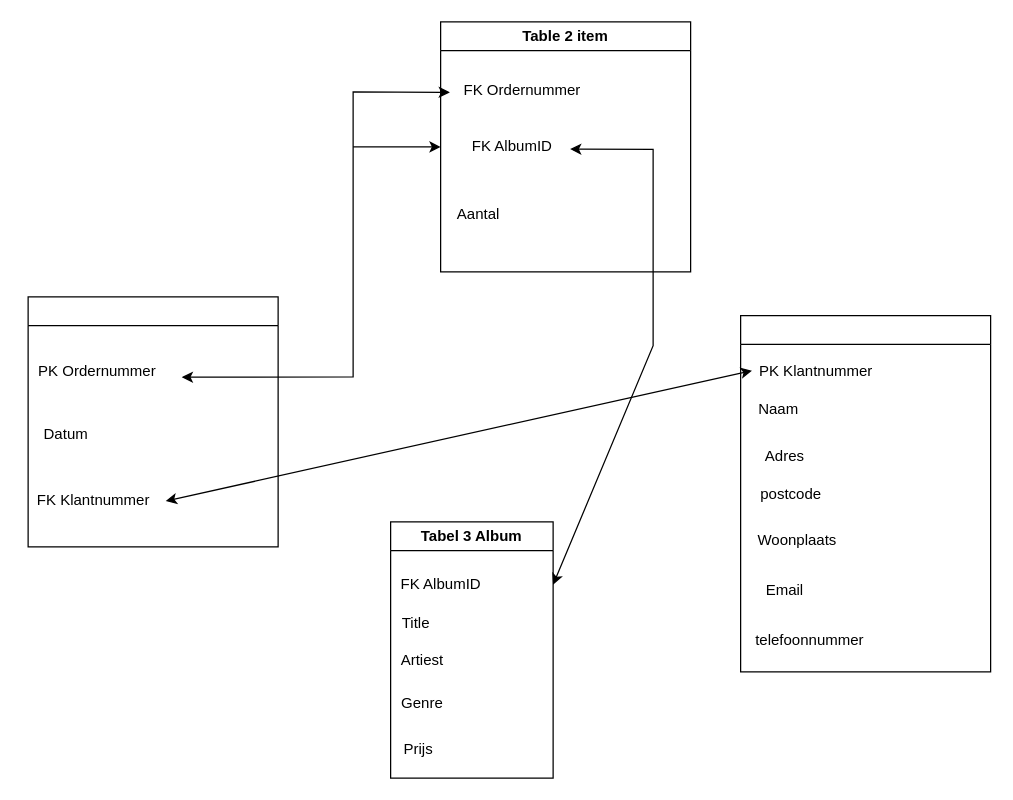
The diagram is 1013 pixels wide and 800 high, and some of its shapes have lost their labels. Each missing label, with the box of its shape:
Tabel 1 Order: (27, 296, 278, 547)
Tabel 4 klant: (739, 314, 991, 672)
